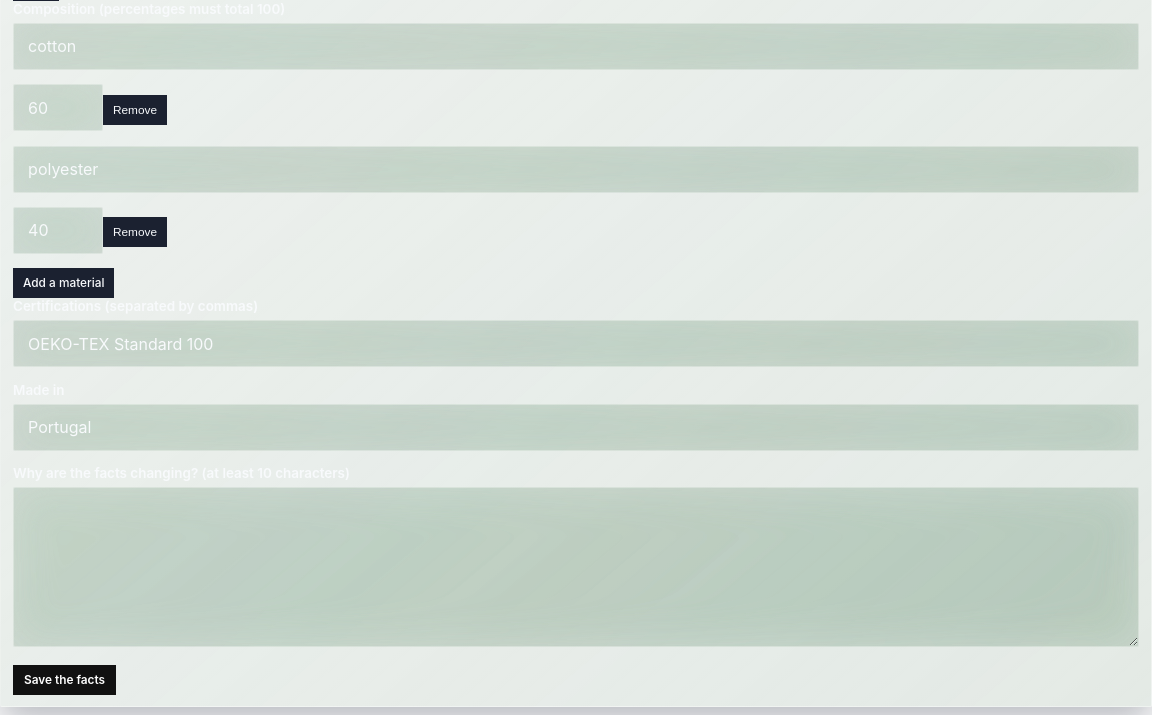
Test: FactsEditor › cannot be saved without a reason, and says what is wrong once one is being typed
(page scrolled)
Expected: the button "Save the facts" is disabled, [13,665,116,695]
Type "short" into the text box labelled "Why are the facts changing? (at least 10 characters)" at (576, 567), box [13,487,1139,647]
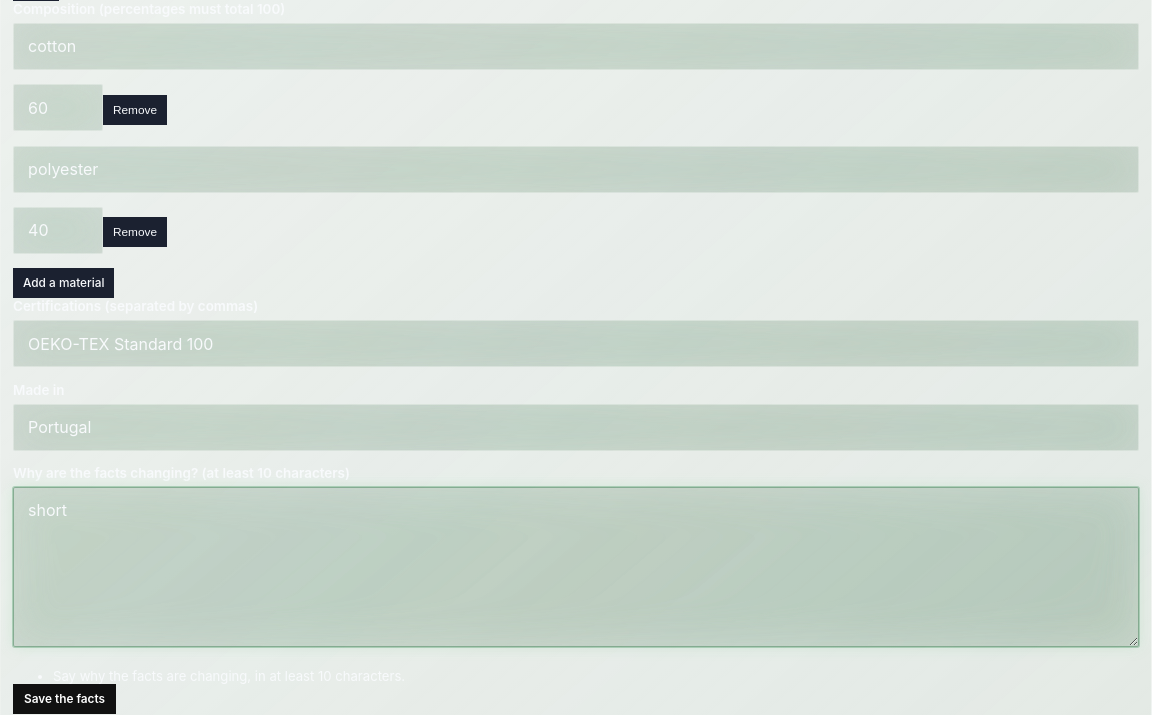
Expected: the list item "Say why the facts are changing, in at least 10 characters." is shown, [53,668,405,684]
